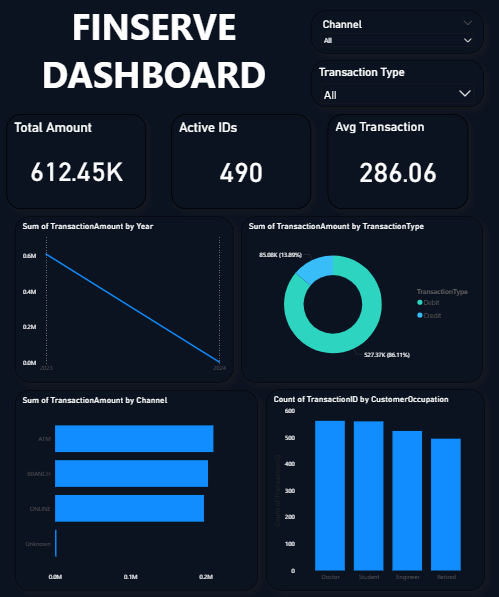

The dashboard page shown, as its layout file describes it:
{"tool":"powerbi","page":{"name":"Page 1","canvas":[1000,1200],"ordinal":0},"visuals":[{"type":"card","title":"Total Amount","fields":{"Values":["Sum(FinServe_Bank_Transactions_clean.TransactionAmount)"]},"box":[13.3,230,280,190],"z":0},{"type":"card","title":"Active IDs","fields":{"Values":["Count(FinServe_Bank_Transactions_clean.AccountID)"]},"box":[343.3,230,280,190],"z":1000},{"type":"card","title":"Avg Transaction","fields":{"Values":["Avg(FinServe_Bank_Transactions_clean.TransactionAmount)"]},"box":[655,230,281.7,190],"z":2000},{"type":"lineChart","fields":{"Category":["FinServe_Bank_Transactions_clean.TransactionDate.Variation.Date Hierarchy.Year"],"Y":["Sum(FinServe_Bank_Transactions_clean.TransactionAmount)"]},"box":[30,435,436.7,331.7],"z":3000},{"type":"donutChart","fields":{"Category":["FinServe_Bank_Transactions_clean.TransactionType"],"Y":["Sum(FinServe_Bank_Transactions_clean.TransactionAmount)"]},"box":[483.3,435,483.3,331.7],"z":4000},{"type":"clusteredBarChart","fields":{"Category":["FinServe_Bank_Transactions_clean.Channel"],"Y":["Sum(FinServe_Bank_Transactions_clean.TransactionAmount)"]},"box":[30,781.4,485.7,401.4],"z":5000},{"type":"clusteredColumnChart","fields":{"Category":["FinServe_Bank_Transactions_clean.CustomerOccupation"],"Y":["CountNonNull(FinServe_Bank_Transactions_clean.TransactionID)"]},"box":[531.4,780,437.1,402.9],"z":6000},{"type":"slicer","fields":{"Values":["FinServe_Bank_Transactions_clean.Channel"]},"box":[621.7,23.3,345,86.7],"z":7000},{"type":"slicer","title":"Transaction Type","fields":{"Values":["FinServe_Bank_Transactions_clean.TransactionType"]},"box":[621.7,123.3,345,93.3],"z":8000},{"type":"textbox","box":[13.3,0,590,216.7],"z":8001}]}

Visuals, with their boxes in screenshot pixels (x1, y1, x2, y2), scaled from the page's 1000x1200 canvas onto the 499x597 screenshot:
"Total Amount" card: bbox(7, 114, 146, 209)
"Active IDs" card: bbox(171, 114, 311, 209)
"Avg Transaction" card: bbox(327, 114, 467, 209)
lineChart - FinServe_Bank_Transactions_clean.TransactionDate.Variation.Date Hierarchy.Year x Sum(FinServe_Bank_Transactions_clean.TransactionAmount): bbox(15, 216, 233, 381)
donutChart - FinServe_Bank_Transactions_clean.TransactionType x Sum(FinServe_Bank_Transactions_clean.TransactionAmount): bbox(241, 216, 482, 381)
clusteredBarChart - FinServe_Bank_Transactions_clean.Channel x Sum(FinServe_Bank_Transactions_clean.TransactionAmount): bbox(15, 389, 257, 588)
clusteredColumnChart - FinServe_Bank_Transactions_clean.CustomerOccupation x CountNonNull(FinServe_Bank_Transactions_clean.TransactionID): bbox(265, 388, 483, 588)
slicer - FinServe_Bank_Transactions_clean.Channel: bbox(310, 12, 482, 55)
"Transaction Type" slicer: bbox(310, 61, 482, 108)
textbox: bbox(7, 0, 301, 108)
